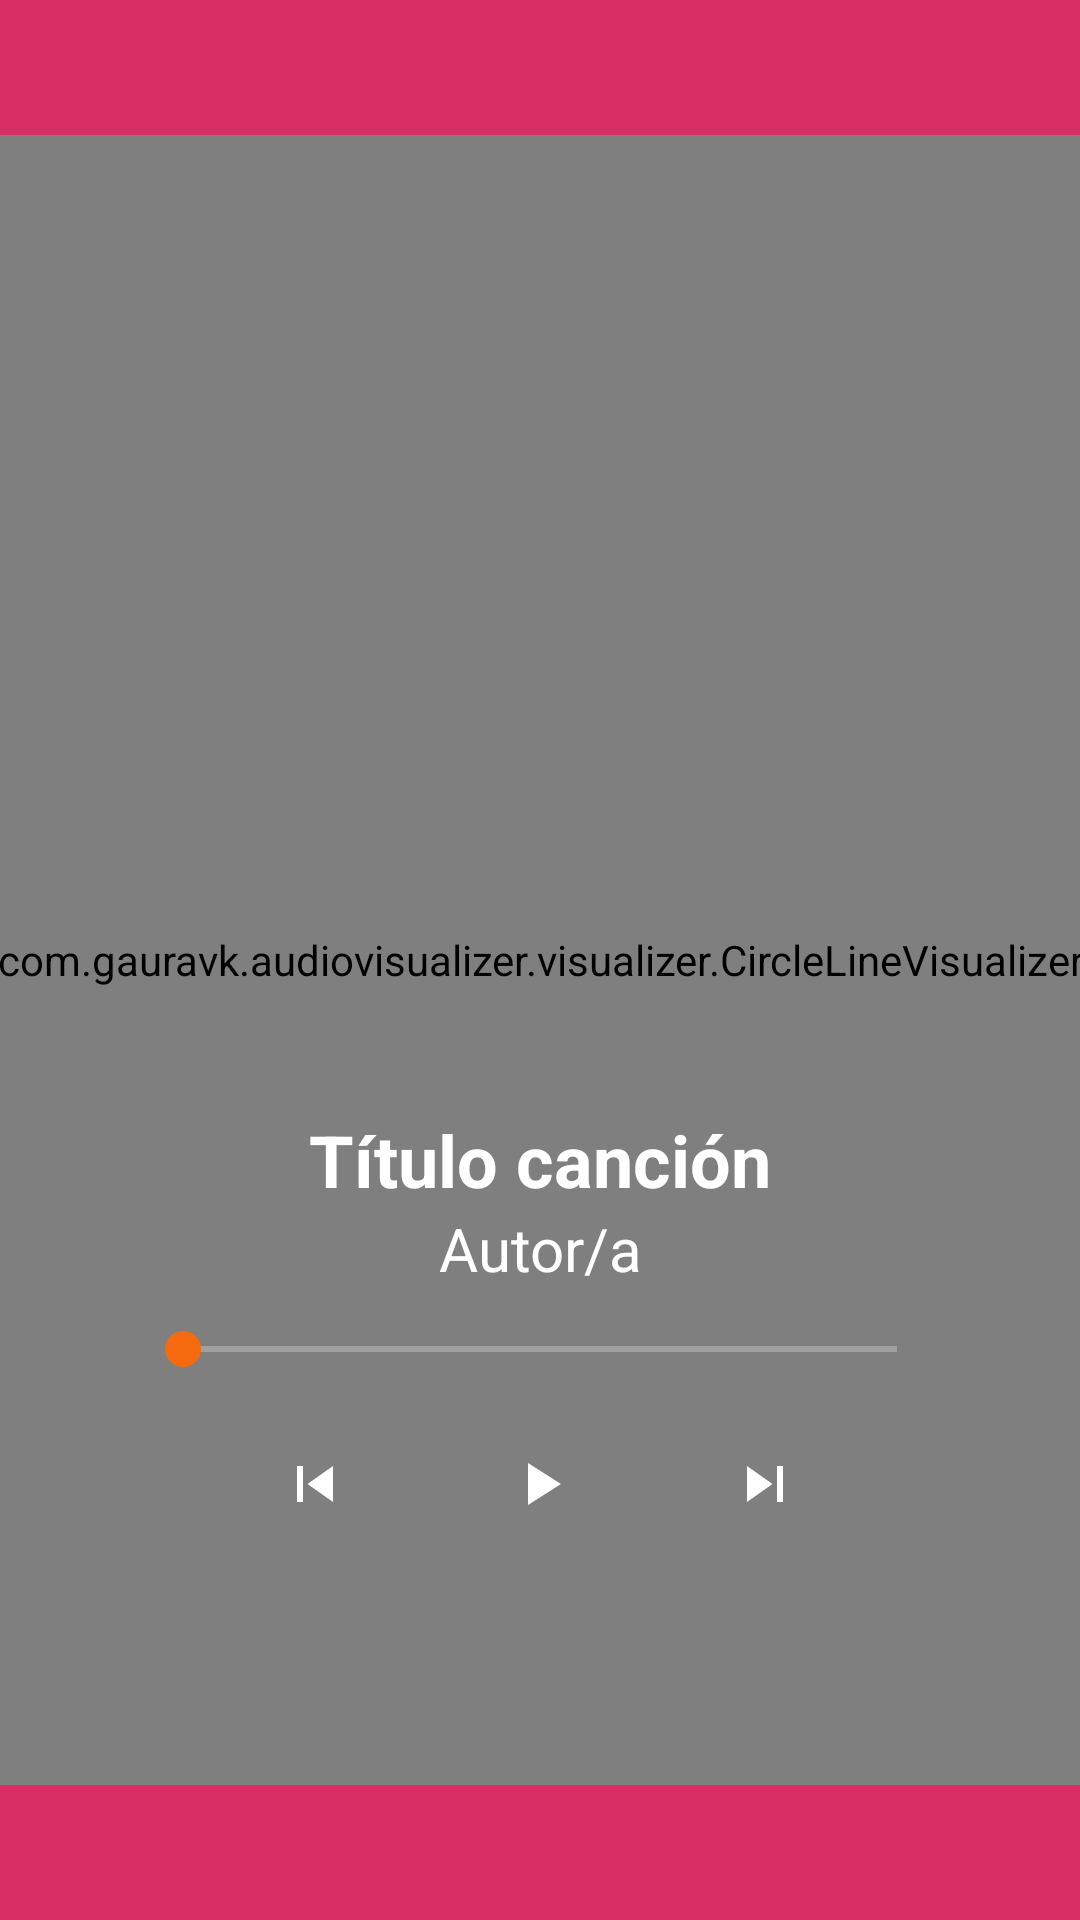

Locate icon controls on the screen. Image size 1080×1920, boxes as (x1, y1, x2, y2).
play: (528, 1463, 561, 1505)
skip next: (747, 1466, 783, 1502)
skip previous: (297, 1466, 333, 1502)
